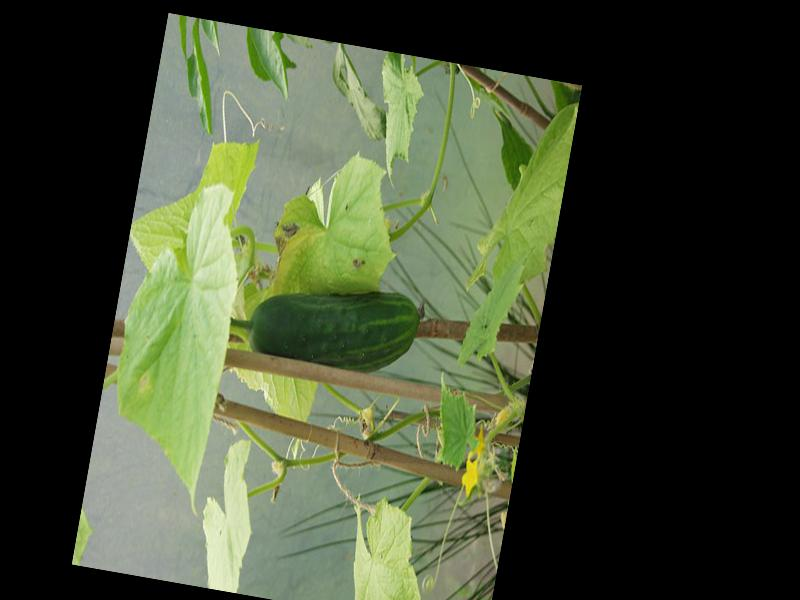Cucumber: (244, 267, 426, 381)
